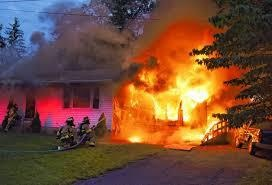fire: (115, 23, 242, 144)
